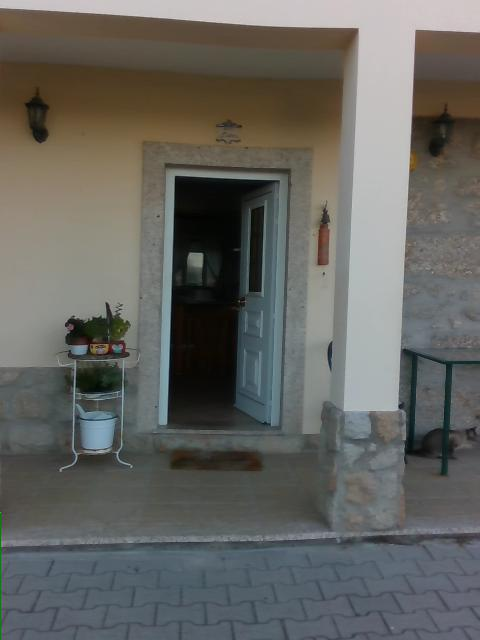door: (233, 182, 281, 426)
